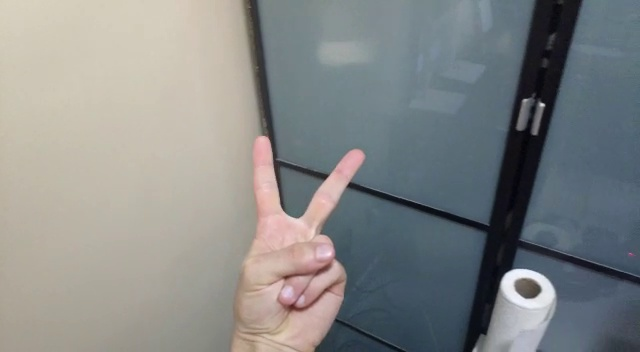Peace: (229, 123, 365, 352)
